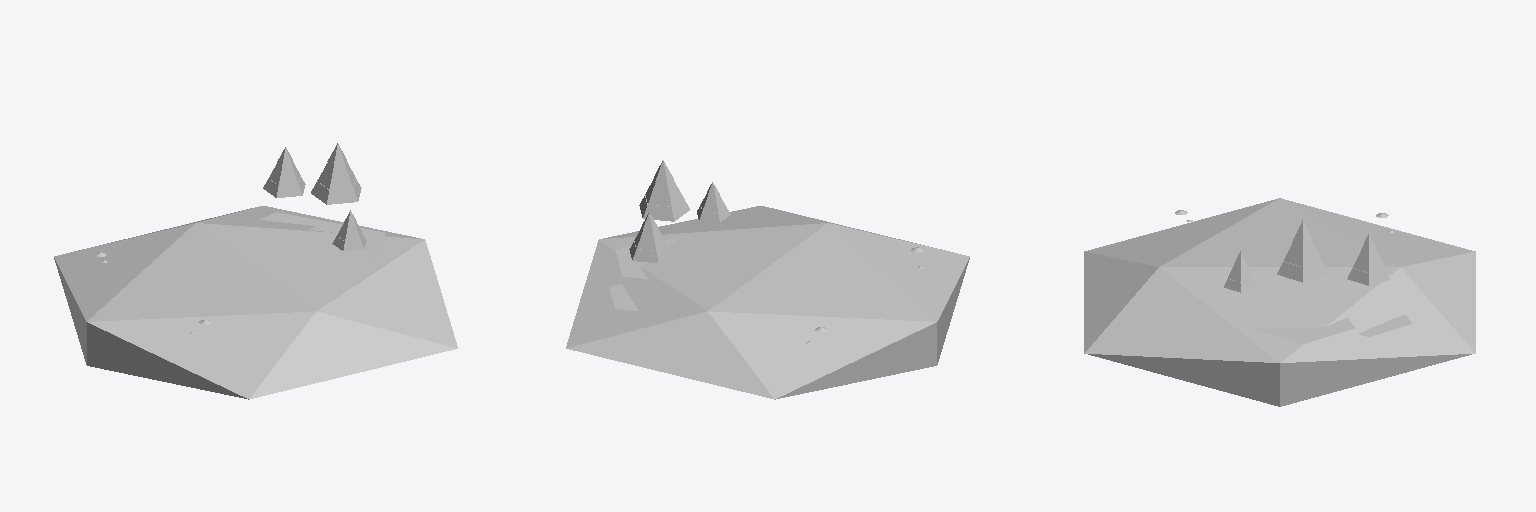
The model's file is simple_terrainv3.obj.
The picture shows the model from 3 angles: view 1: azimuth 30°, elevation 25°; view 2: azimuth 150°, elevation 25°; view 3: azimuth 270°, elevation 25°; orthographic projection.
Size of the model in its own units: 432 by 200 by 432.